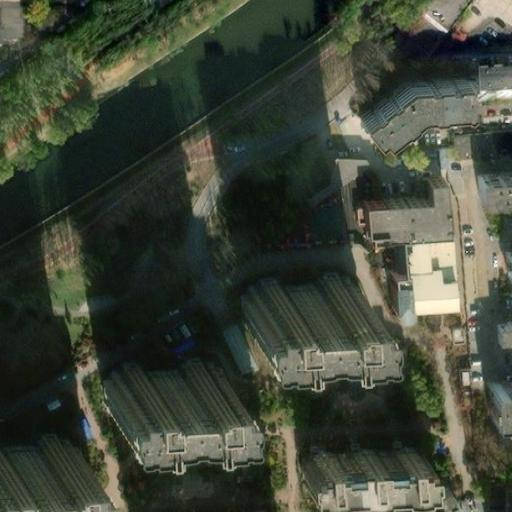building: (353, 75, 462, 142), (229, 271, 352, 324), (91, 357, 214, 410), (291, 437, 418, 483), (358, 174, 440, 233), (386, 227, 446, 298), (0, 432, 71, 479), (421, 0, 475, 40), (459, 70, 512, 103), (396, 28, 433, 67), (471, 163, 512, 194), (483, 377, 512, 409), (489, 481, 512, 512), (487, 312, 512, 340), (497, 244, 512, 275)
